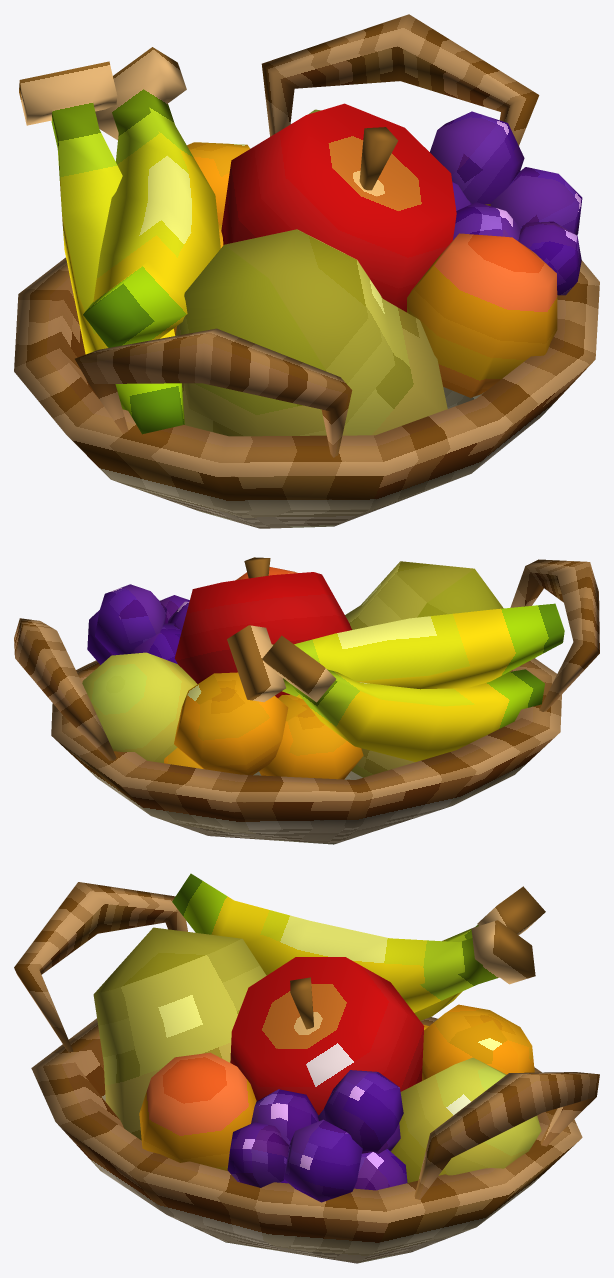
File: int_oth_fruitbasket.dae
The picture shows the model from 3 angles, top to bottom: view 1: azimuth 30°, elevation 25°; view 2: azimuth 150°, elevation 25°; view 3: azimuth 270°, elevation 25°; orthographic projection. The views are drawn at different scales.
Parts seen in each view (by area): view 1: _0_0_node; view 2: _0_0_node; view 3: _0_0_node.
Part boxes in pixels (x1=…): _0_0_node: x1=14, y1=14, x2=599, y2=528; _0_0_node: x1=14, y1=557, x2=599, y2=844; _0_0_node: x1=14, y1=873, x2=599, y2=1263.
Bounding box in the file's own units: 23.99 × 12.32 × 23.99.
